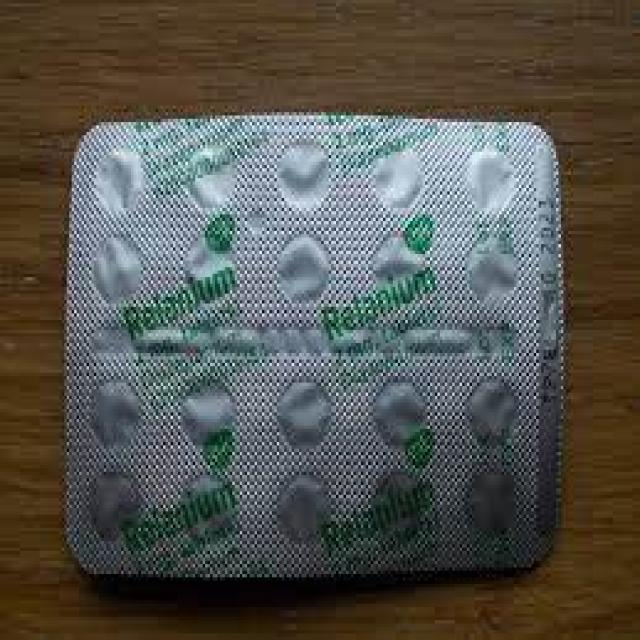Pill: (457, 463, 528, 557), (365, 230, 437, 320), (374, 464, 441, 556), (268, 127, 334, 220), (89, 121, 146, 227), (175, 141, 245, 226), (361, 134, 431, 218), (461, 137, 528, 223), (176, 465, 240, 554), (272, 470, 335, 559), (273, 371, 336, 459), (178, 369, 239, 458), (373, 364, 429, 458), (82, 374, 149, 452), (272, 231, 334, 313), (87, 234, 147, 316), (89, 466, 146, 552), (462, 372, 521, 453), (176, 232, 238, 308), (467, 232, 525, 313)
